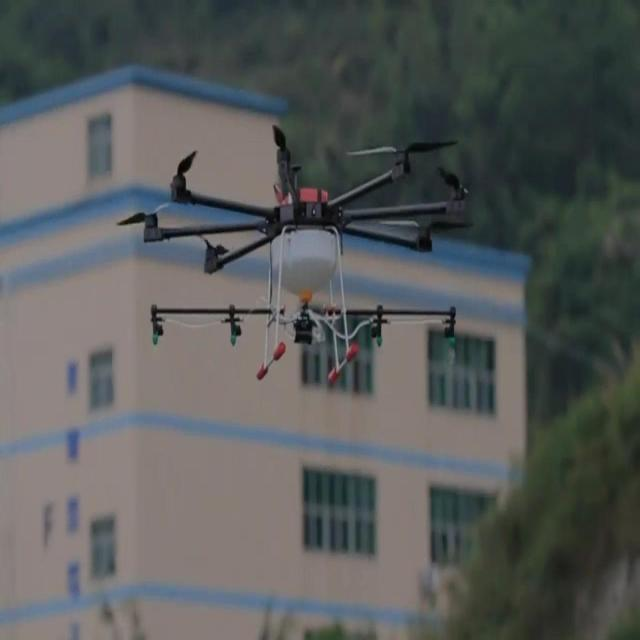drone: (139, 118, 470, 388)
